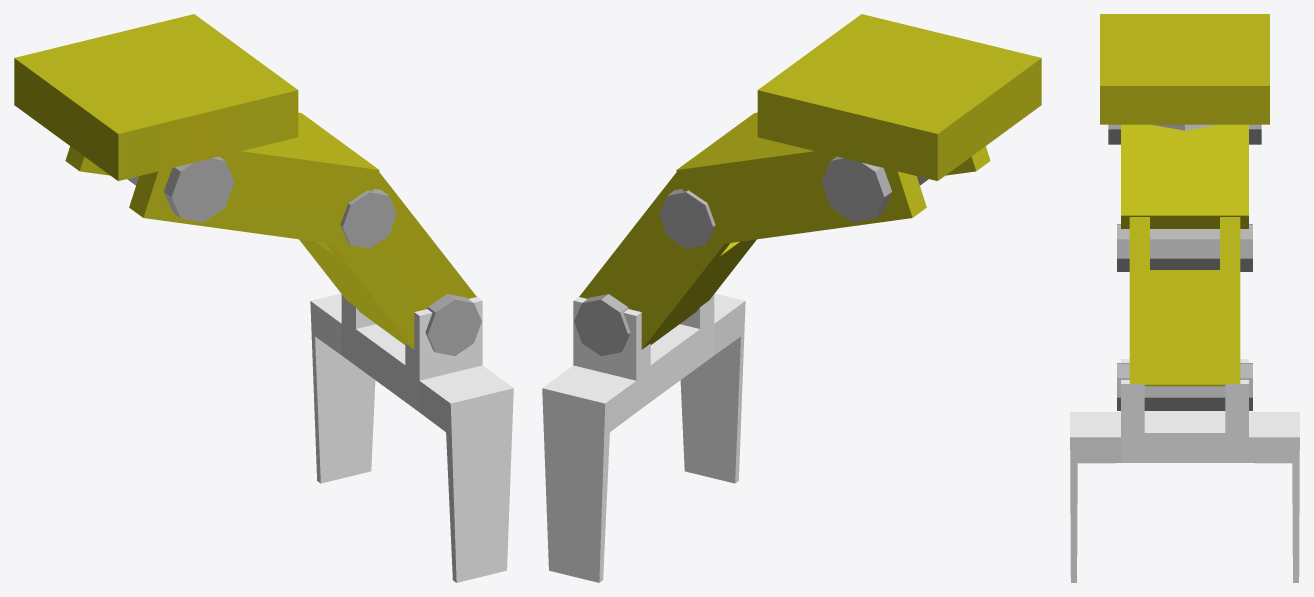
Rendered from Mechanic hand.fbx.
3 renders of one model, left to right at view 1: azimuth 30°, elevation 25°; view 2: azimuth 150°, elevation 25°; view 3: azimuth 270°, elevation 25°, orthographic. The views are drawn at different scales.
Parts seen in each view (by area): view 1: Cube.015, Cube.018, Cube.016, Cube.017, Cylinder.001, Cylinder.003, Cylinder.002; view 2: Cube.015, Cube.018, Cube.016, Cube.017, Cylinder.001, Cylinder.003, Cylinder.002; view 3: Cube.015, Cube.017, Cube.018, Cube.016, Cylinder.002, Cylinder.003, Cylinder.001.
Part boxes in pixels (x1,y1,x2,y2): Cube.015: (14, 14, 298, 180); Cube.018: (310, 293, 513, 582); Cube.016: (65, 112, 379, 246); Cube.017: (299, 172, 476, 349); Cylinder.001: (127, 156, 234, 222); Cylinder.003: (425, 294, 481, 355); Cylinder.002: (340, 189, 396, 248); Cube.015: (757, 14, 1041, 180); Cube.018: (542, 293, 745, 582); Cube.016: (676, 112, 990, 246); Cube.017: (579, 172, 756, 349); Cylinder.001: (821, 156, 928, 222); Cylinder.003: (574, 294, 630, 355); Cylinder.002: (659, 189, 715, 248); Cube.015: (1100, 14, 1269, 124); Cube.017: (1129, 217, 1240, 386); Cube.018: (1070, 359, 1299, 582); Cube.016: (1121, 124, 1248, 228); Cylinder.002: (1117, 224, 1252, 271); Cylinder.003: (1117, 363, 1252, 410); Cylinder.001: (1108, 124, 1261, 144).
Size of the model in its own units: 419 by 546 by 270.
